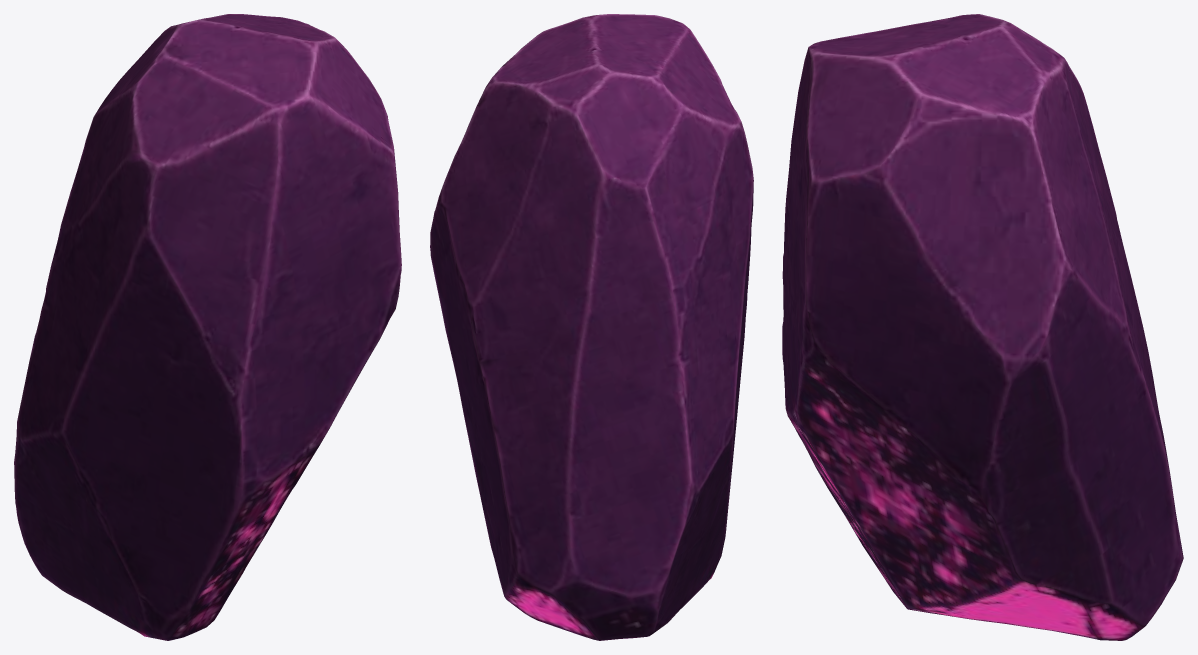
The model's file is sky_boulder_f_chaos_v35.glb.
3 views of the same model, side by side, from view 1: azimuth 30°, elevation 25°; view 2: azimuth 150°, elevation 25°; view 3: azimuth 270°, elevation 25° (orthographic). The views are drawn at different scales.
Visible parts, largest first — view 1: boulder_f; view 2: boulder_f; view 3: boulder_f.
Part boxes in pixels (left/top/right/bottom): boulder_f: left=14, top=14, right=401, bottom=640; boulder_f: left=430, top=14, right=753, bottom=640; boulder_f: left=782, top=14, right=1183, bottom=640.
Bounding box in the file's own units: 6.09 × 10.51 × 6.27.
1 material, 1 textured.
